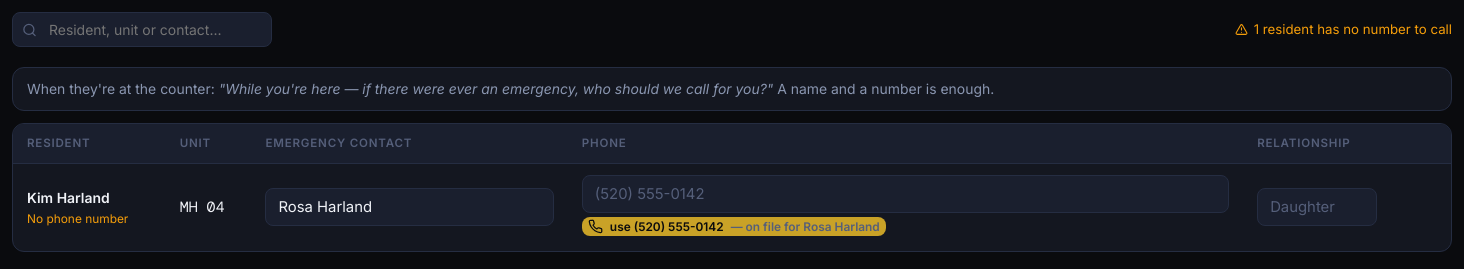
the roster counts only what the desk can fix › the suggested number is offered with a gold button that fills the box
The width and height of the screenshot is (1464, 269).
Step 1. Click the button "use (520) 555-0142 — on file for Rosa Harland" → (734,226), box [582, 217, 886, 236]
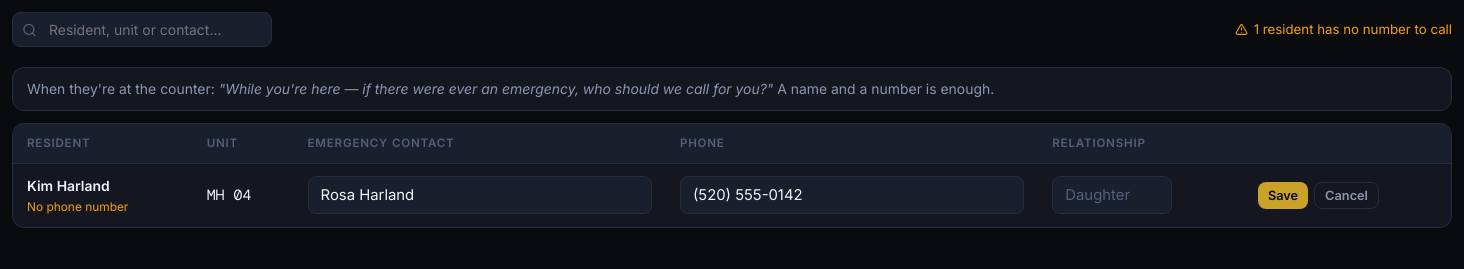
expect the 3rd field holds "(520) 555-0142": met, box [680, 176, 1024, 214]
